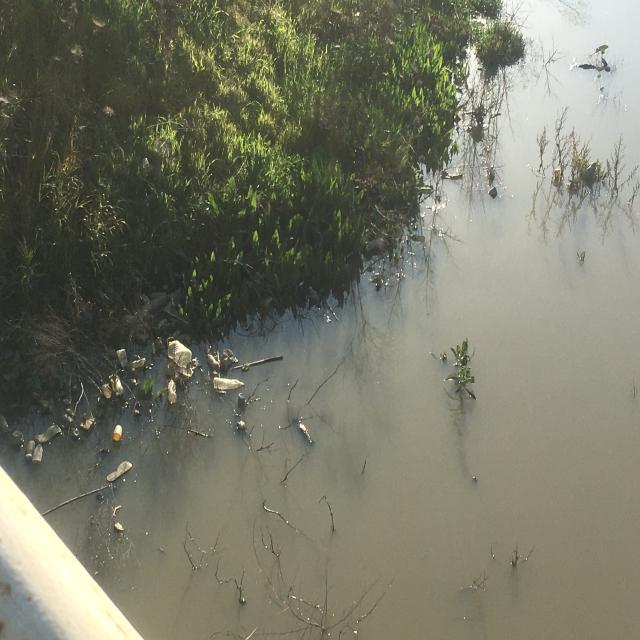Plastic bottle: (164, 334, 193, 368), (212, 375, 248, 392), (108, 371, 126, 399), (220, 345, 235, 376), (204, 350, 220, 373), (116, 345, 129, 370), (166, 378, 178, 405), (10, 429, 25, 450), (111, 422, 125, 444), (32, 441, 44, 465), (25, 438, 36, 462), (130, 358, 149, 370), (236, 392, 247, 408)
Undefined trash: (105, 458, 133, 484), (34, 422, 63, 443), (81, 413, 96, 433)
Wood: (40, 484, 110, 518), (230, 354, 284, 372)
